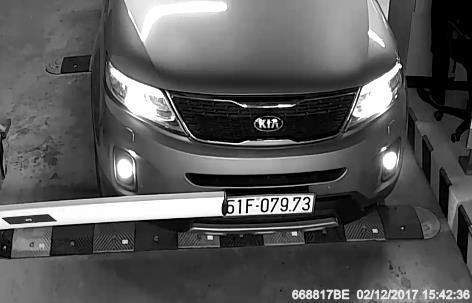License-plate: (206, 186, 329, 227)
